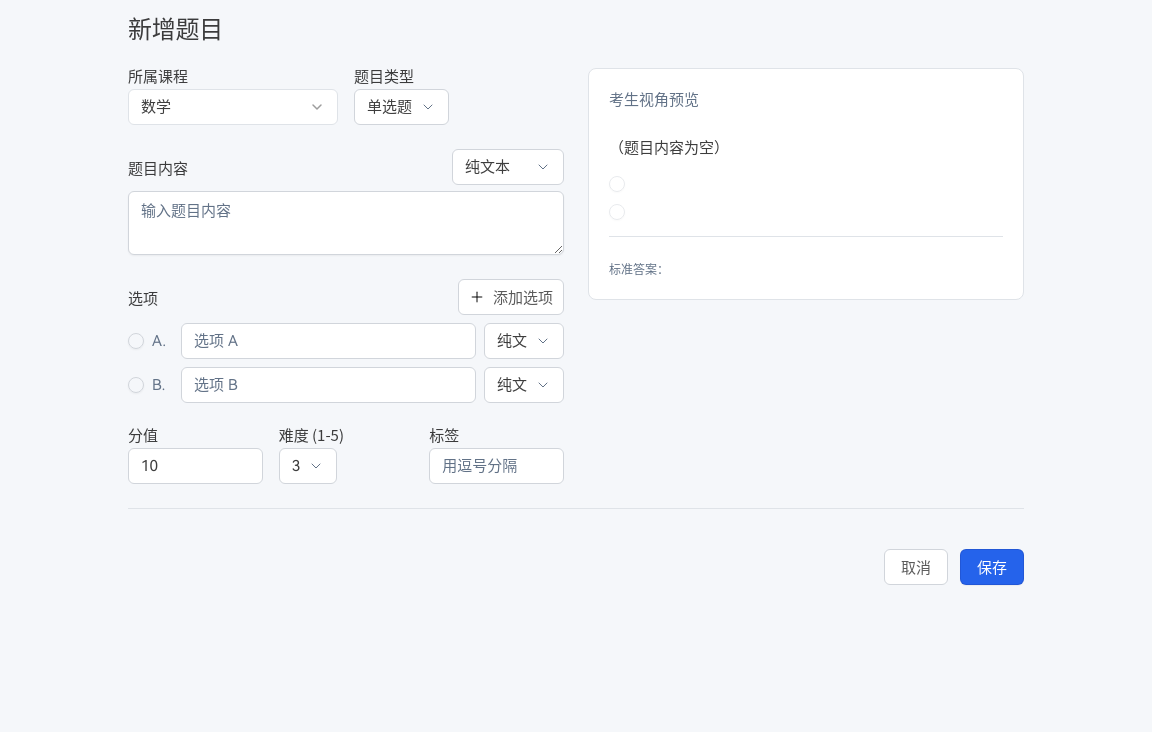
it: QuestionEditPage › shows specific save error when API rejects
Step 1. Click the button "保存" → (992, 567), box [960,549,1024,585]
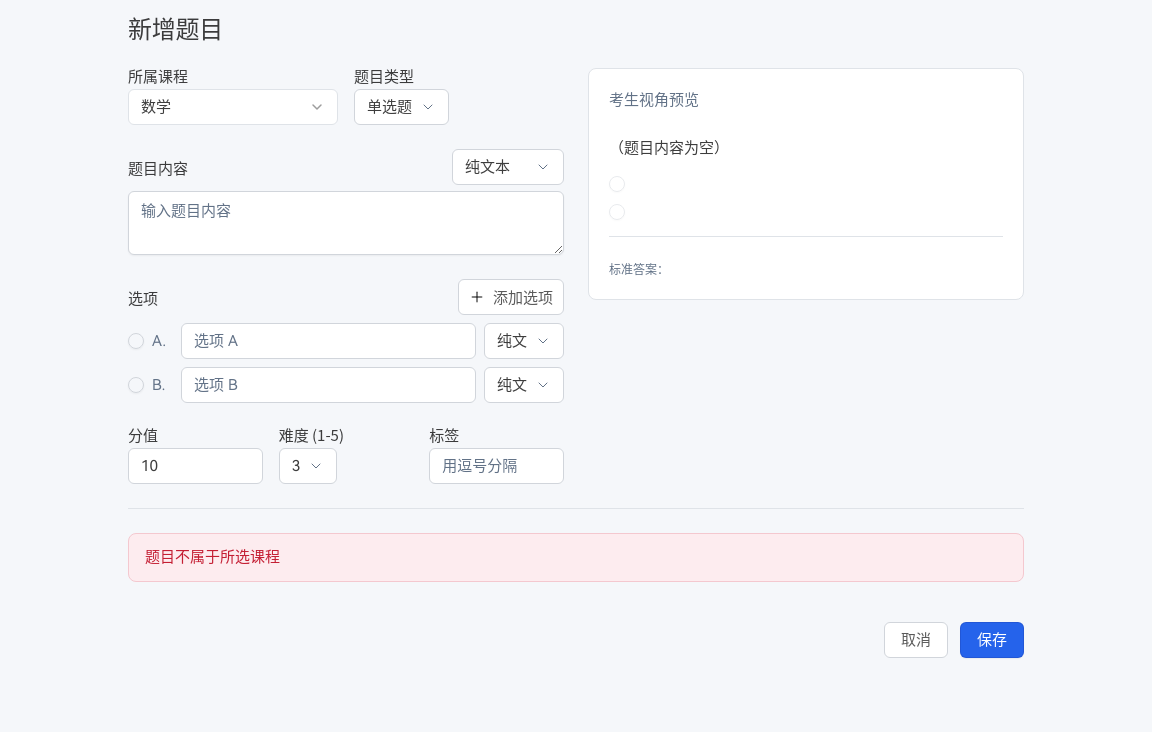
Now the text "题目不属于所选课程" is shown, box [128,533,1024,582]
